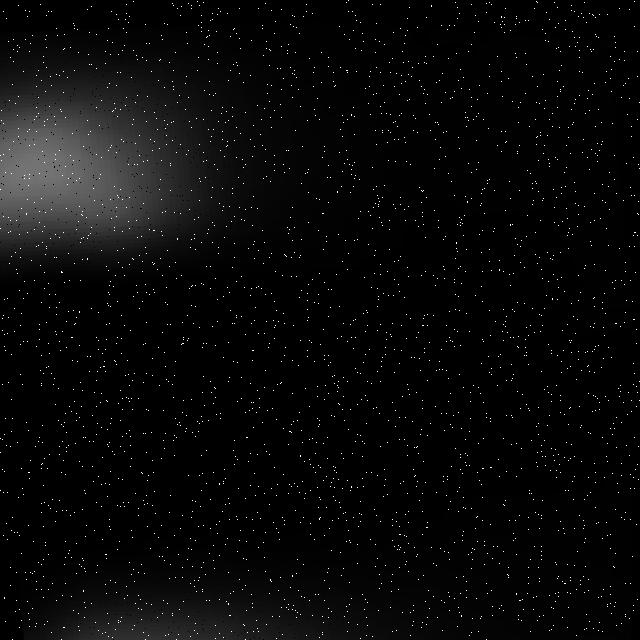person: (18, 509, 635, 640), (1, 25, 300, 278)
